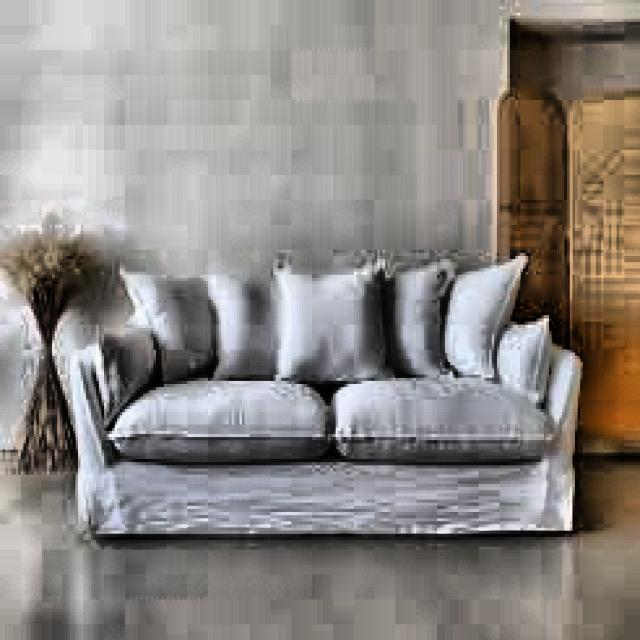sofa: (70, 262, 583, 550)
